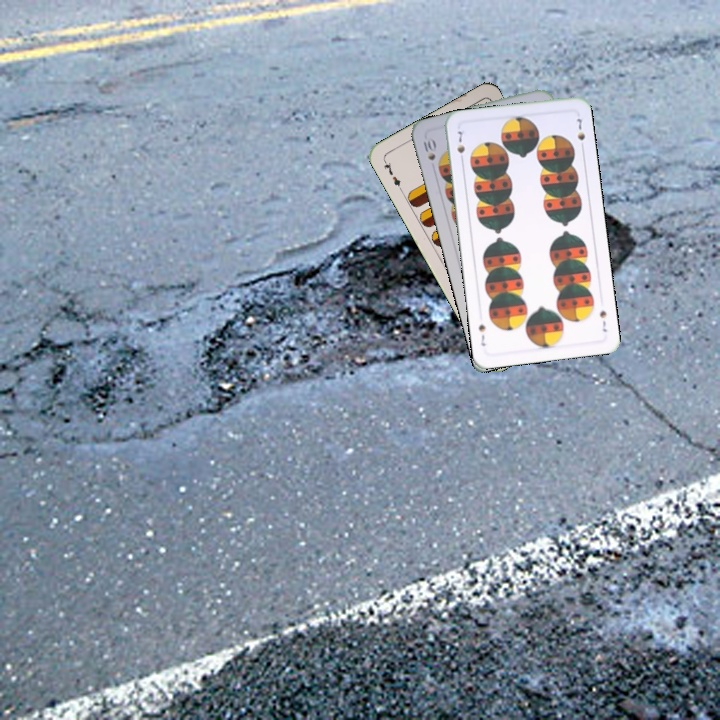E7: (379, 156, 405, 193)
S10: (418, 134, 438, 163)
S7: (453, 127, 468, 165), (595, 306, 610, 334)
